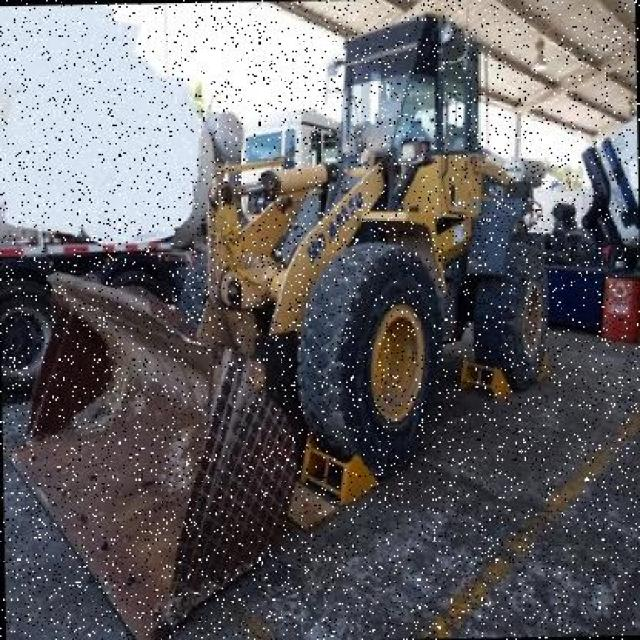buldozerpayloadergrader: (0, 9, 568, 640)
